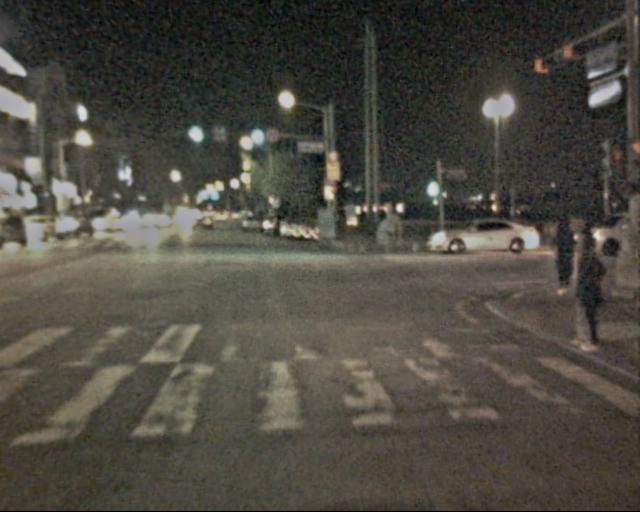person: (559, 233, 611, 355), (547, 217, 582, 296), (570, 218, 604, 295)
